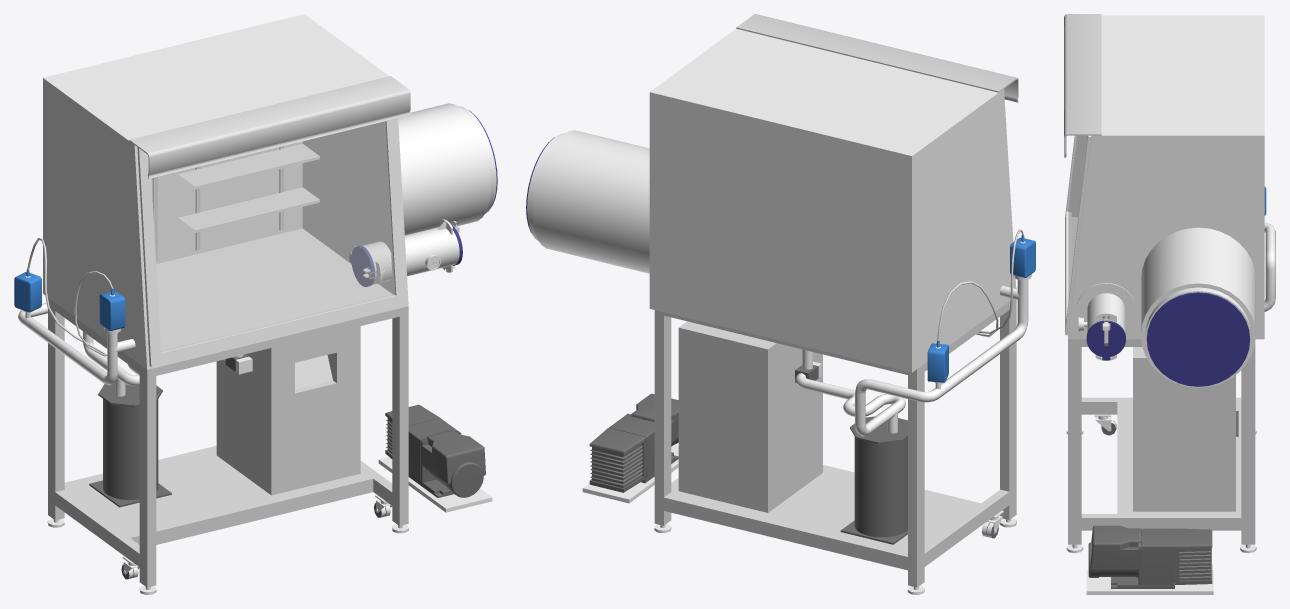
Rendered from m_braun_labster_v1.fbx.
3 views of the same model, side by side, from view 1: azimuth 30°, elevation 25°; view 2: azimuth 150°, elevation 25°; view 3: azimuth 270°, elevation 25° (orthographic). The views are drawn at different scales.
Parts seen in each view (by area): view 1: box, glass, base, Cube.002, Cube.003, Cylinder.003, Cube.008, Cylinder.006, Cylinder.004, Cylinder.007, Plane.004, Plane.003 (+5 smaller); view 2: box, base, Cube.002, Cylinder.003, Cylinder.006, Cylinder.007, Cube.003, Cube.008, Cube.007, Cube, Cube.001; view 3: box, Cylinder.003, Cube.002, base, Cube.008, Cube.003, Cylinder.004, glass, Cube.007, hatch, Cylinder.007, Cylinder.
Part boxes in pixels (box(x1,y1,x2,y2)): box: box(43, 14, 408, 369); glass: box(151, 121, 395, 351); base: box(48, 297, 408, 587); Cube.002: box(216, 326, 360, 495); Cube.003: box(129, 76, 410, 178); Cylinder.003: box(398, 103, 497, 235); Cube.008: box(385, 404, 485, 497); Cylinder.006: box(89, 382, 171, 507); Cylinder.004: box(350, 219, 459, 284); Cylinder.007: box(18, 303, 243, 396); Plane.004: box(178, 144, 319, 189); Plane.003: box(178, 187, 319, 232); box: box(649, 28, 1016, 372); base: box(654, 299, 1016, 587); Cube.002: box(678, 321, 822, 512); Cylinder.003: box(526, 130, 649, 273); Cylinder.006: box(840, 416, 907, 544); Cylinder.007: box(795, 274, 1031, 436); Cube.003: box(736, 14, 1018, 102); Cube.008: box(589, 393, 678, 492); Cube.007: box(582, 444, 678, 503); Cube: box(1010, 235, 1035, 277); Cube.001: box(927, 340, 948, 382); box: box(1065, 15, 1264, 339); Cylinder.003: box(1141, 227, 1255, 387); Cube.002: box(1133, 347, 1235, 511); base: box(1068, 339, 1255, 544); Cube.008: box(1088, 525, 1212, 588); Cube.003: box(1064, 14, 1101, 158); Cylinder.004: box(1076, 283, 1135, 360); glass: box(1068, 135, 1086, 300); Cube.007: box(1086, 570, 1213, 594); hatch: box(1086, 320, 1125, 360); Cylinder.007: box(1264, 222, 1275, 311); Cylinder: box(1066, 430, 1256, 553).
Size of the model in its own units: 179 by 175 by 80.45.
